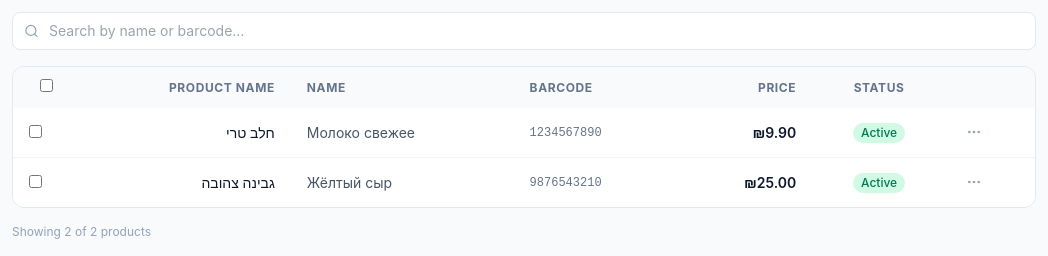
ProductsTable — search filtering › shows all products when search is cleared
In the field with placeholder "Search by name or barcode…": x=524, y=31 [12, 12, 1036, 50], type "חלב"
Wait 200 ms
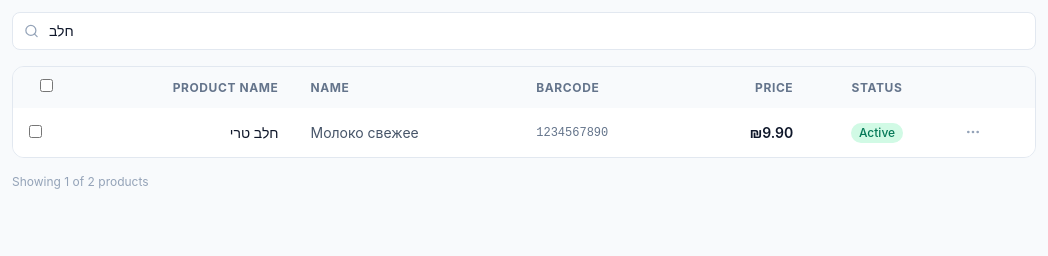
Expected: the text "גבינה צהובה" is gone
Clear the field with placeholder "Search by name or barcode…": x=524, y=31 [12, 12, 1036, 50]
Wait 200 ms
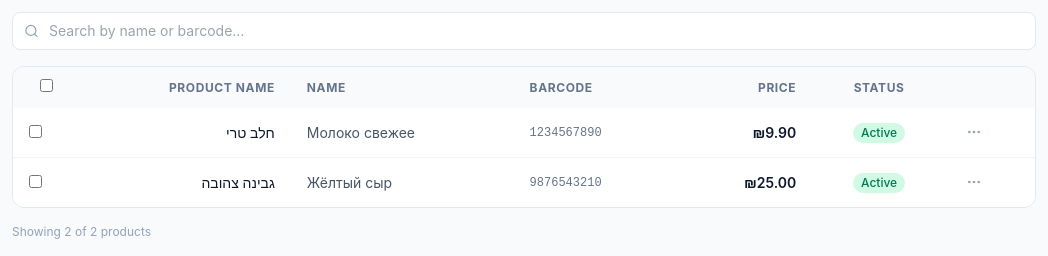
Expected: the text "חלב טרי" is shown, [72, 108, 291, 158]
Expected: the text "גבינה צהובה" is shown, [72, 158, 291, 207]
